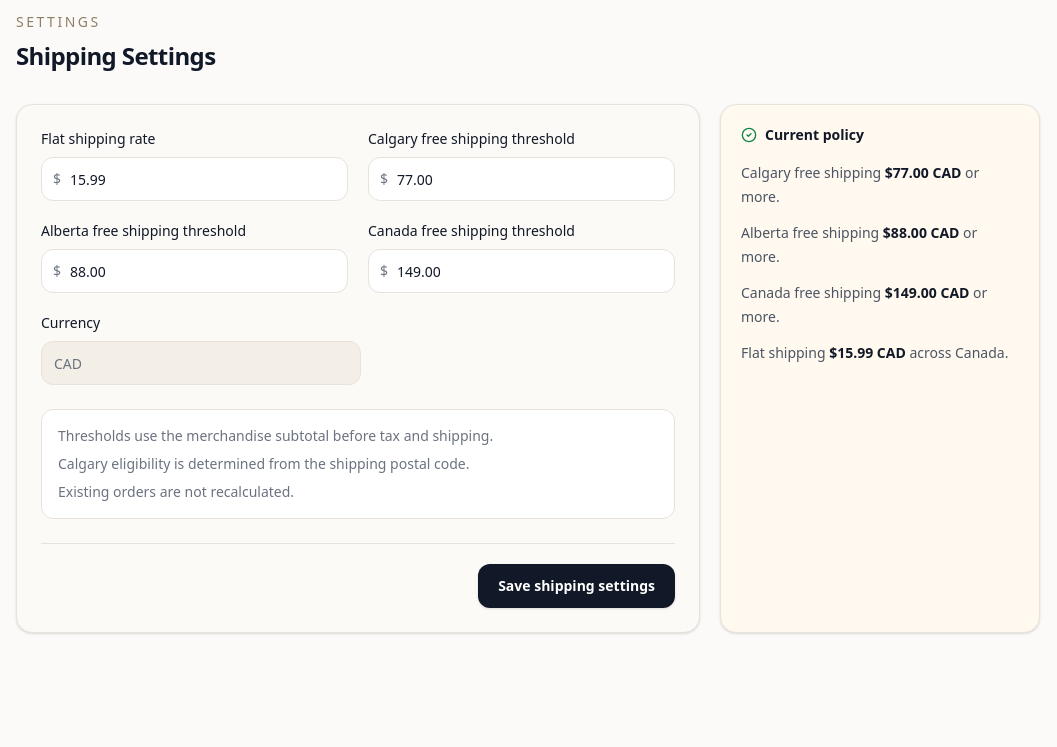
AdminShippingSettingsPage › blocks thresholds that are not ordered Calgary, Alberta, Canada
The image size is (1057, 747).
Replace the text in the field labelled "Calgary free shipping threshold" with "90.00" at (522, 179), box [368,157,675,201]
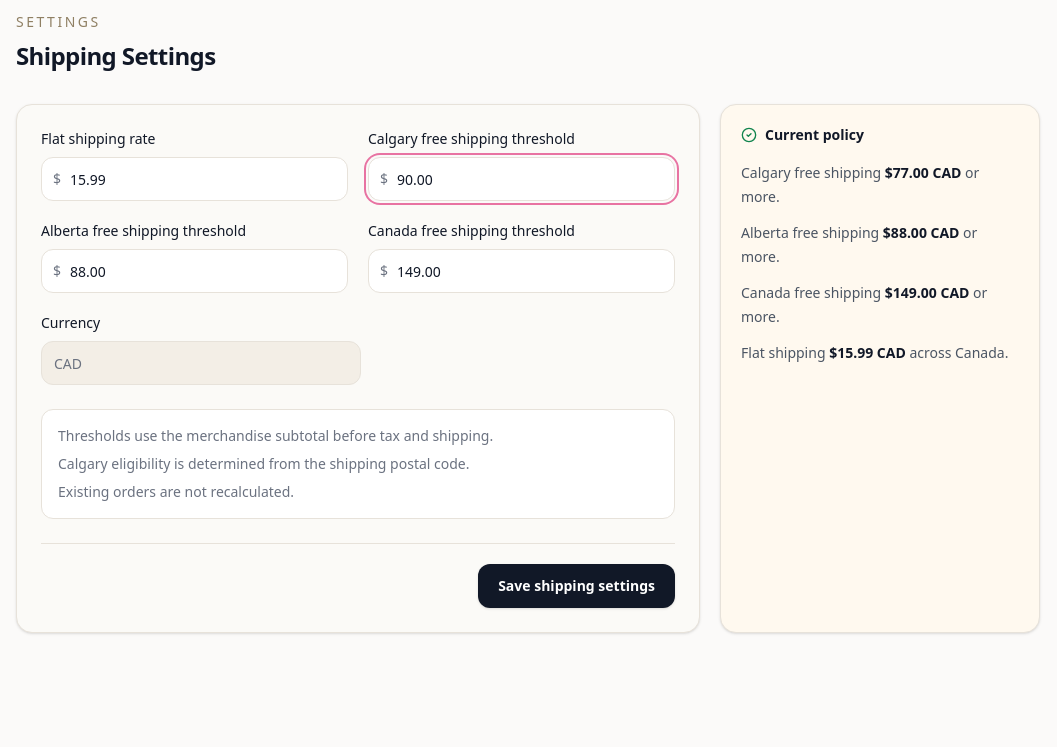
Replace the text in the field labelled "Alberta free shipping threshold" with "80.00" at (194, 271), box [41,249,348,293]
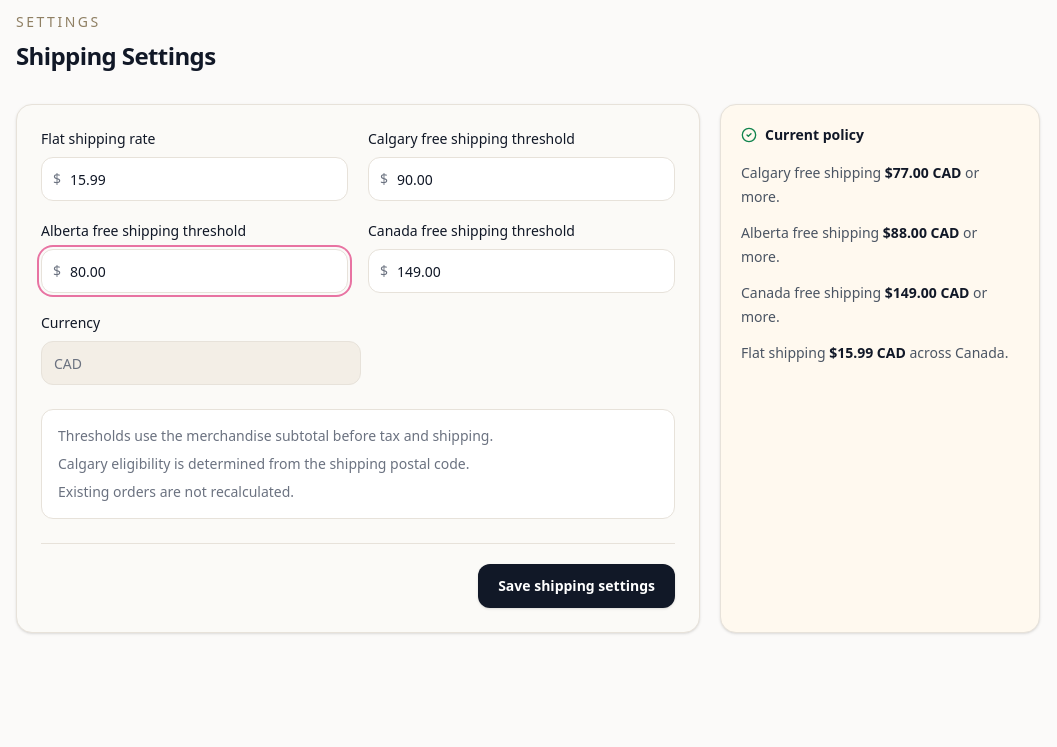
Click the button "Save shipping settings" at (577, 586), box [478,564,675,608]
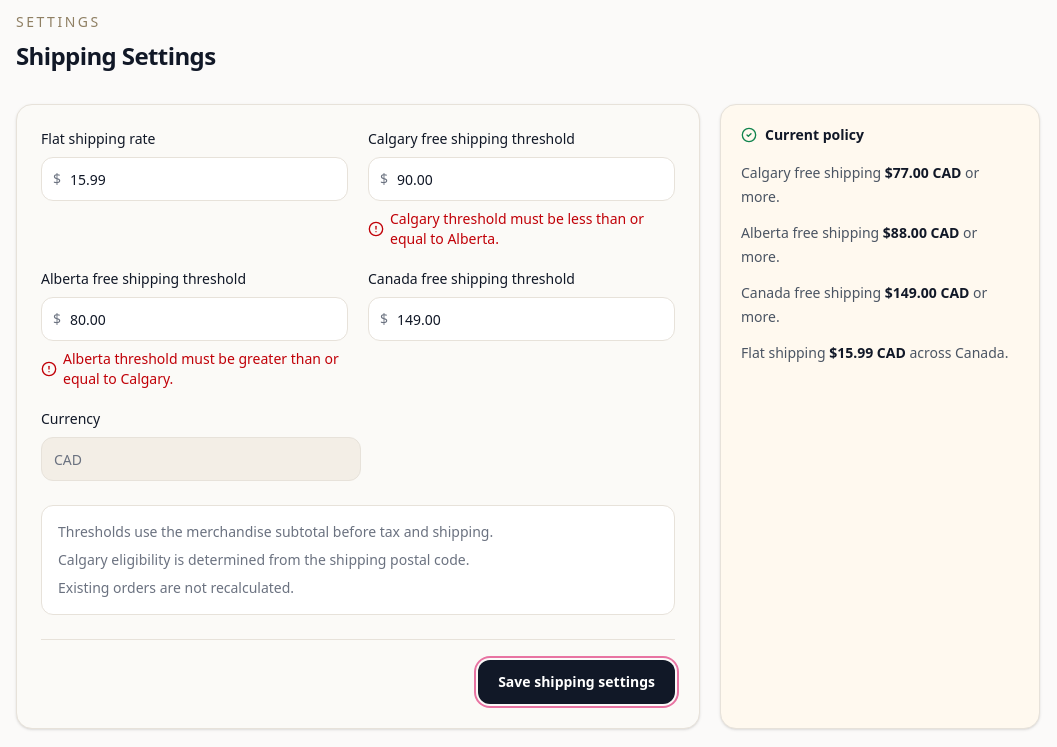
Now the text "Calgary threshold must be less than or equal to Alberta." is shown, box [368,209,675,249]
